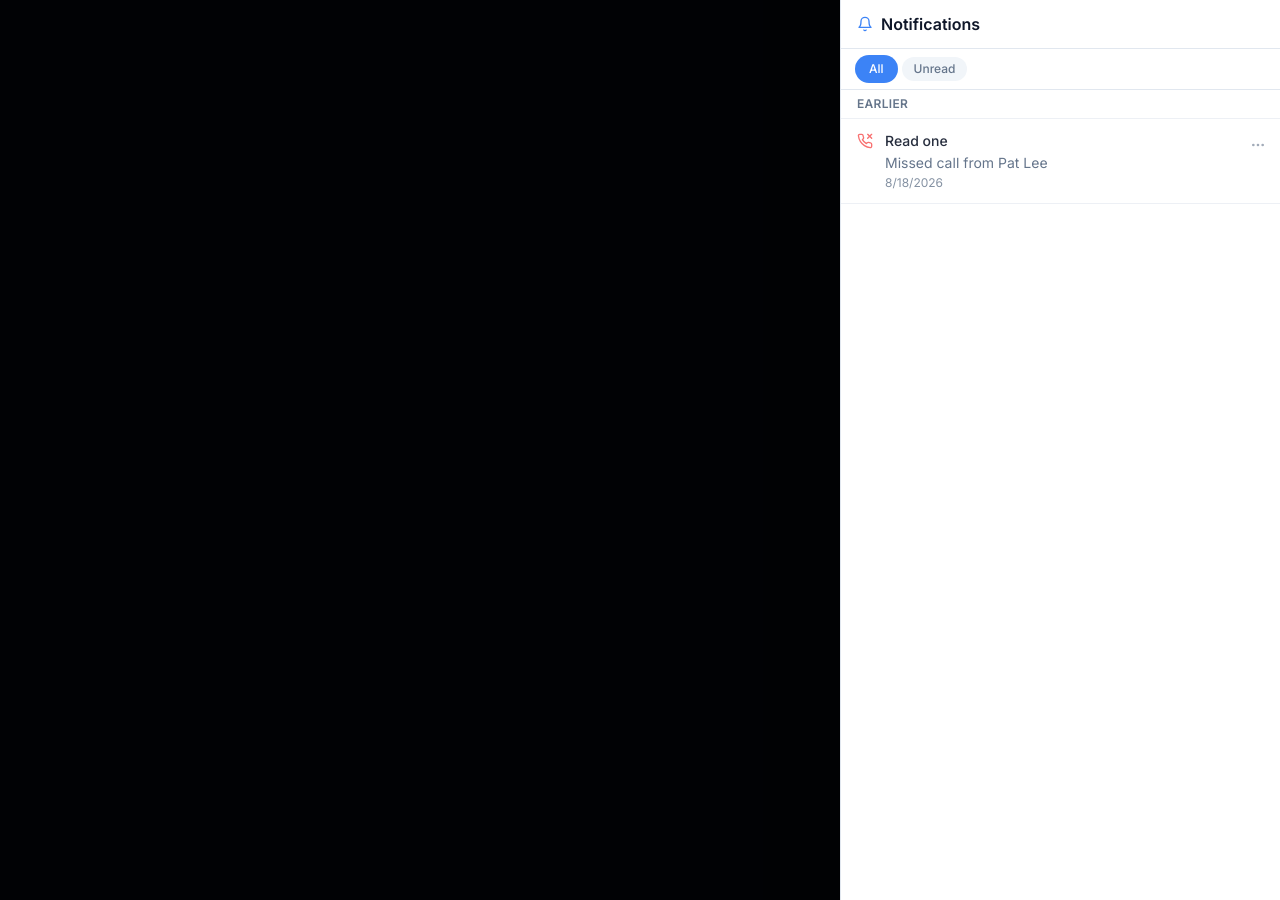
filters and grouping › Unread filter hides read rows and shows the no-unread state when empty
The image size is (1280, 900).
Click the button "Unread" at (935, 69), box left=902, top=57, right=968, bottom=81
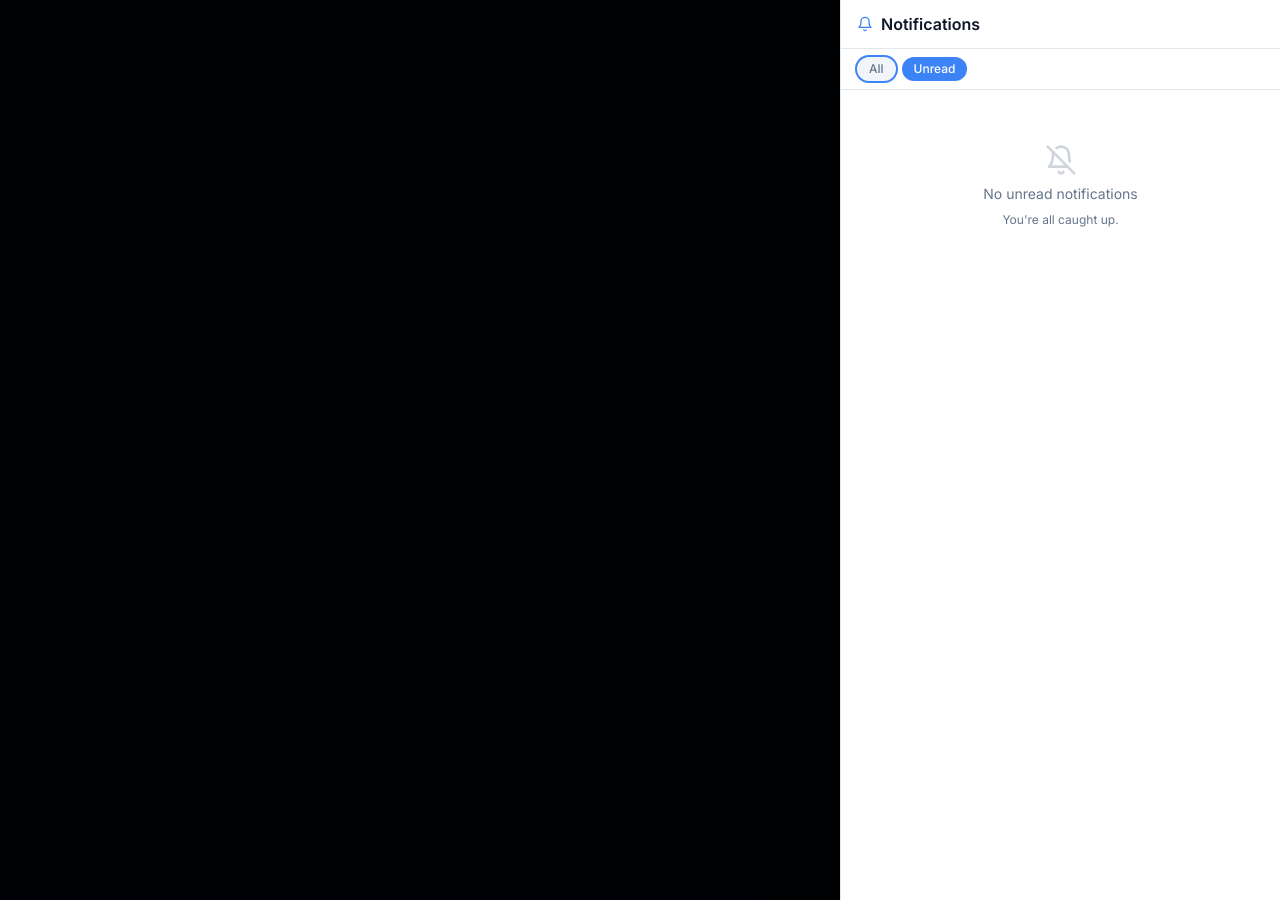
Now the button "Read one" is gone
Now the text "No unread notifications" is shown, box left=983, top=184, right=1138, bottom=204
